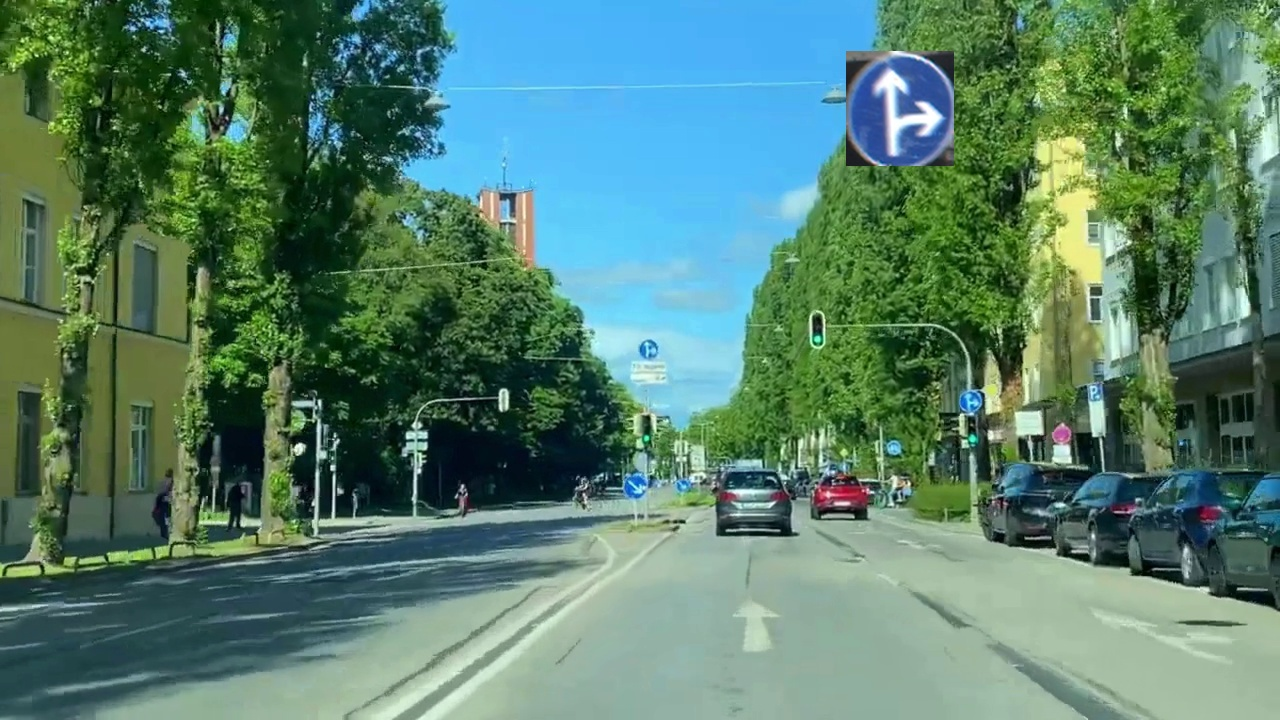Straight/right: (846, 51, 954, 166)
